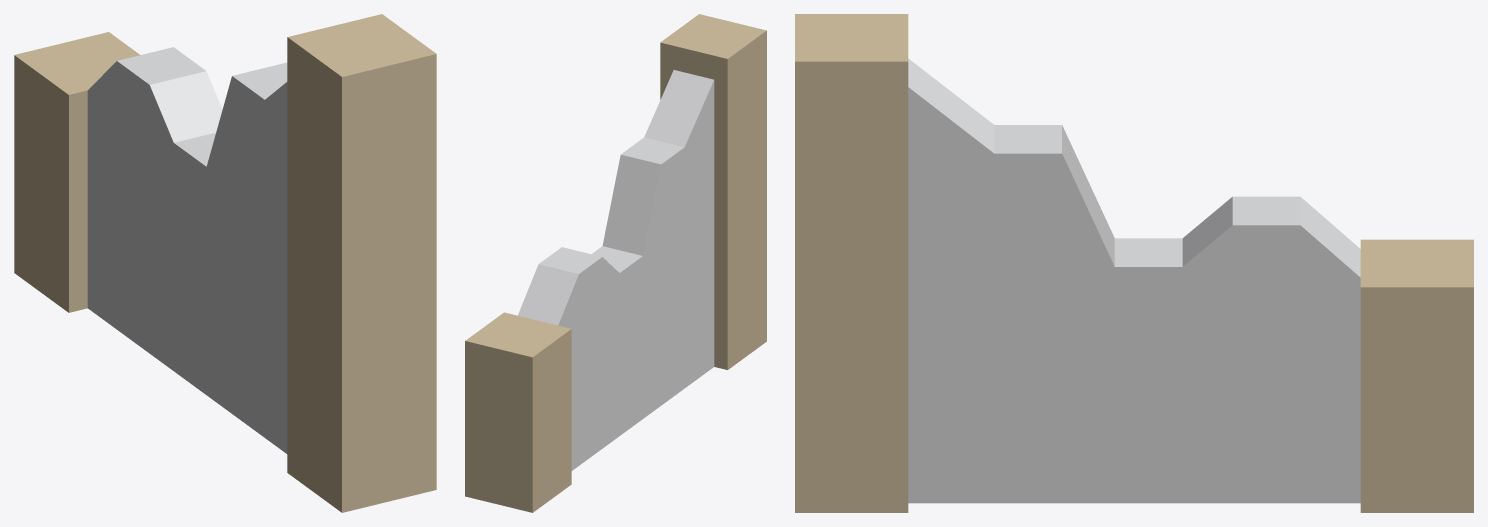
The model's file is Wood_Broken_Wall_01.glb.
3 renders of one model, left to right at view 1: azimuth 30°, elevation 25°; view 2: azimuth 150°, elevation 25°; view 3: azimuth 270°, elevation 25°, orthographic. The views are drawn at different scales.
Visible parts, largest first — view 1: Wood_Broken_Wall_01; view 2: Wood_Broken_Wall_01; view 3: Wood_Broken_Wall_01.
Boxes of the visible parts, box(x1,y1,x2,y2) form: Wood_Broken_Wall_01: box(14, 14, 436, 512); Wood_Broken_Wall_01: box(465, 14, 766, 512); Wood_Broken_Wall_01: box(795, 14, 1473, 512).
Size of the model in its own units: 0.5001 by 2.2 by 3.
